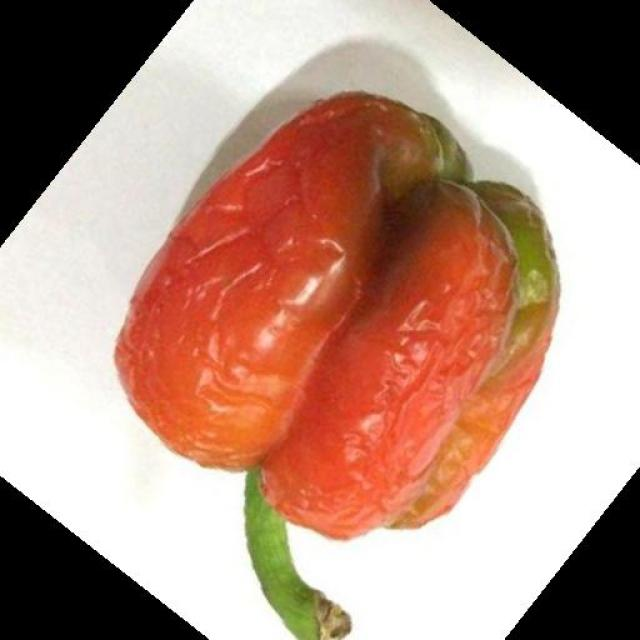Stale_Capsicum: (138, 77, 522, 570)
